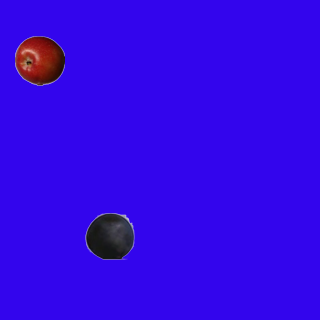Apple Braeburn: (14, 35, 64, 85)
Grape Blue: (84, 210, 134, 260)
